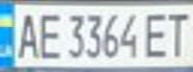3: (81, 10, 106, 60), (63, 9, 87, 60)
4: (118, 9, 145, 60)
6: (103, 10, 124, 60)
A: (12, 8, 42, 60)
E: (142, 8, 172, 60), (36, 8, 63, 61)
T: (163, 8, 193, 59)
